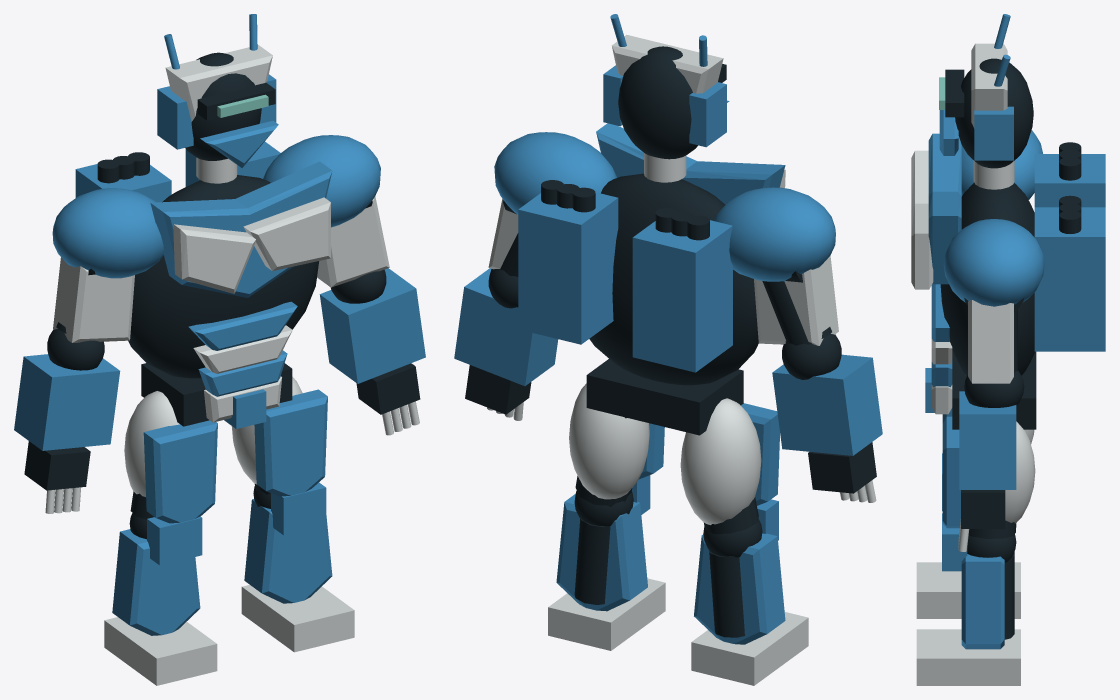
Rendered from cyber-guardian.glb.
3 views of the same model, side by side, from view 1: azimuth 30°, elevation 25°; view 2: azimuth 150°, elevation 25°; view 3: azimuth 270°, elevation 25° (orthographic). The views are drawn at different scales.
Visible parts, largest first — view 1: torso, leg-left, leg-right, arm-left, elbow-left, head, elbow-right, arm-right; view 2: torso, leg-left, leg-right, arm-left, head, elbow-left, elbow-right, arm-right; view 3: torso, leg-right, arm-right, head, elbow-right, leg-left, arm-left.
Part boxes in pixels (x1,y1,x2,y2): torso: (75, 141, 332, 428); leg-left: (104, 391, 217, 685); leg-right: (231, 376, 354, 652); arm-left: (52, 188, 163, 342); elbow-left: (14, 329, 120, 513); head: (157, 14, 278, 183); elbow-right: (319, 268, 425, 435); arm-right: (263, 135, 389, 287); torso: (518, 123, 785, 435); leg-left: (680, 398, 808, 685); leg-right: (548, 383, 665, 650); arm-left: (714, 187, 838, 345); head: (603, 14, 729, 182); elbow-left: (772, 333, 882, 502); elbow-right: (454, 268, 558, 420); arm-right: (488, 132, 617, 276); torso: (911, 133, 1105, 429); leg-right: (916, 416, 1035, 685); arm-right: (943, 219, 1044, 383); head: (939, 14, 1033, 189); elbow-right: (958, 370, 1024, 551); leg-left: (916, 408, 1034, 618); arm-left: (961, 130, 1042, 199).
Bounding box in the file's own units: 2.79 × 4.2 × 1.23.
